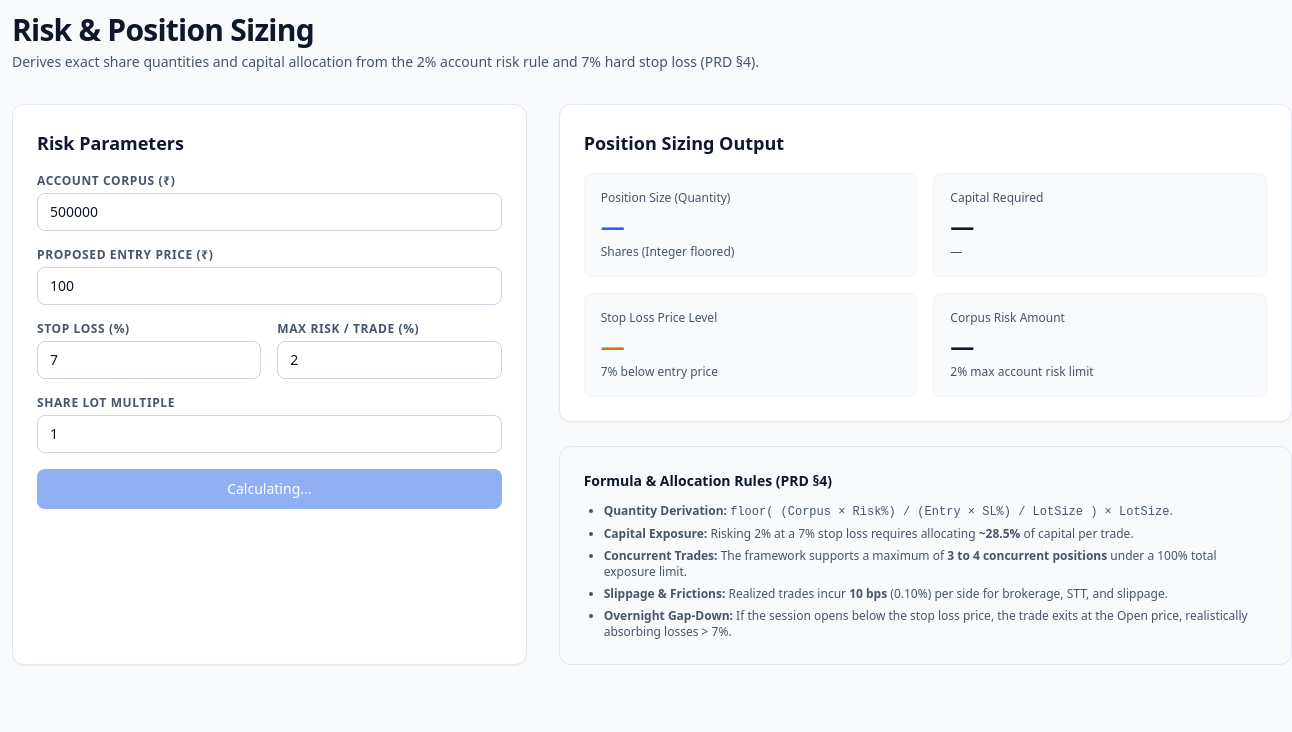
Scenario: RiskPage Component › updates inputs to 100k corpus and verifies derived values
Step 1. Type "100000" into the number field with test id "input-corpus" → (269, 212), box [37,193,502,231]
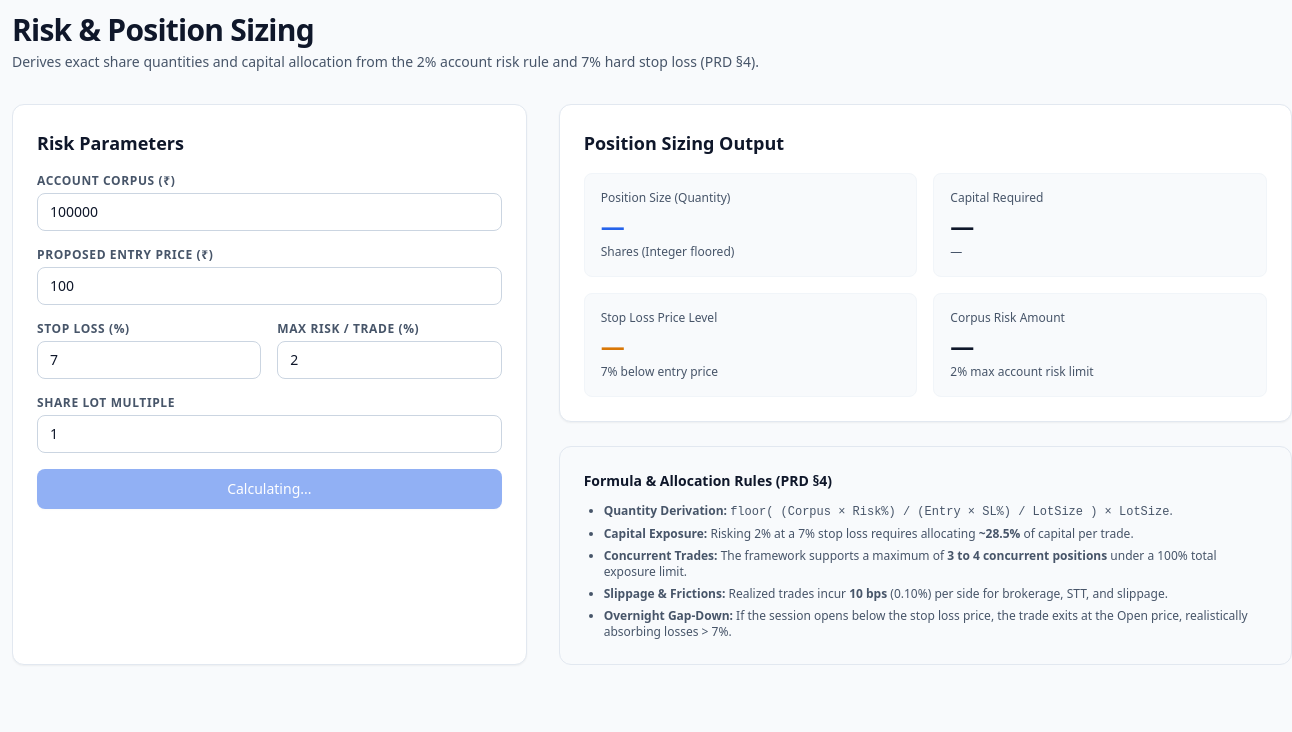
Step 2. Click the button with test id "btn-calculate" → (269, 489), box [37,469,502,509]
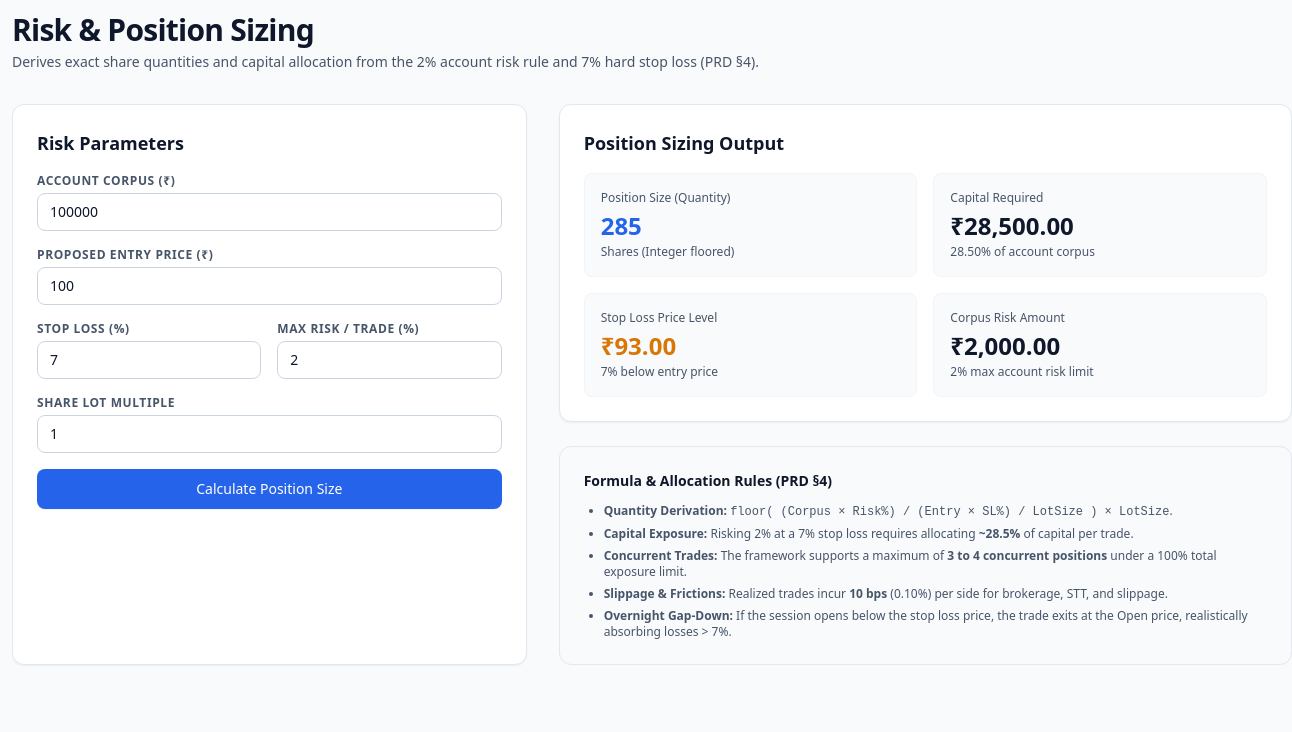
Check: the text with test id "result-qty" reads "285", box [601,209,642,242]
Check: the text with test id "result-capital" shows "28,500", box [950,209,1074,242]
Check: the text with test id "result-risk-amount" shows "2,000", box [950,329,1060,362]
